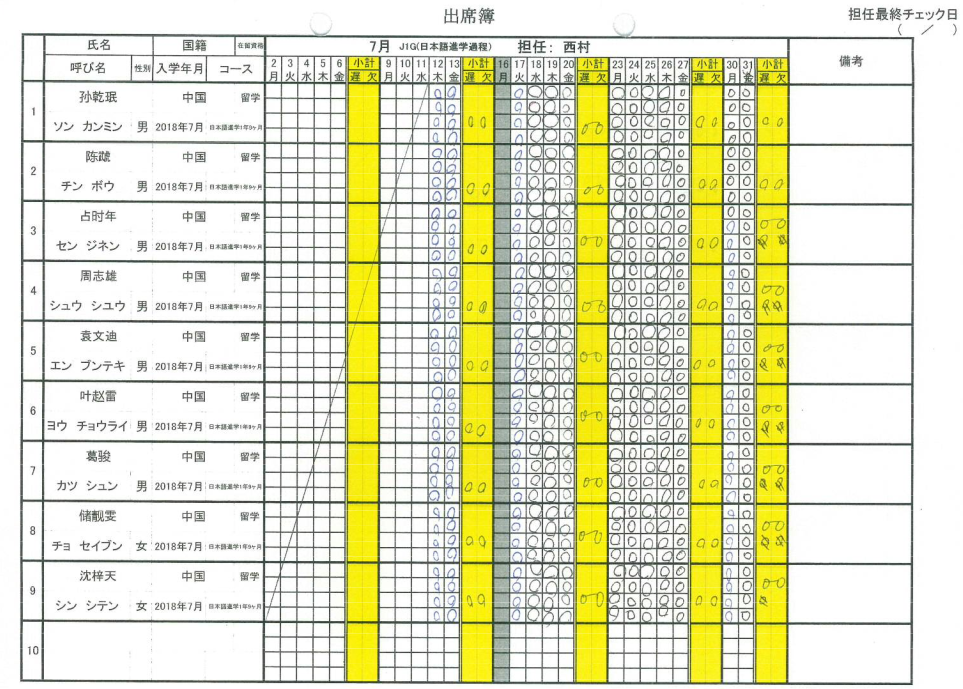o: (625, 278, 642, 295), (608, 308, 625, 325), (624, 503, 641, 520), (722, 503, 740, 519), (543, 173, 560, 189), (527, 218, 544, 234), (527, 263, 544, 279), (526, 518, 543, 534), (527, 548, 544, 564), (558, 563, 575, 579), (640, 383, 657, 399), (640, 412, 657, 428), (641, 443, 657, 460), (657, 443, 674, 459), (657, 504, 674, 520), (674, 533, 690, 550), (640, 594, 657, 610), (640, 608, 657, 624), (722, 488, 739, 504), (738, 203, 755, 219), (723, 129, 740, 145), (510, 84, 528, 99), (624, 234, 642, 249), (738, 474, 756, 489), (722, 175, 740, 190), (429, 83, 445, 99), (445, 203, 461, 219), (429, 218, 445, 234), (544, 83, 560, 99), (527, 323, 543, 339), (510, 338, 526, 354), (543, 353, 559, 369), (527, 383, 543, 399), (527, 413, 543, 429), (543, 413, 559, 429), (543, 443, 559, 459), (674, 174, 690, 190), (674, 204, 690, 220), (657, 233, 673, 249), (658, 264, 674, 280), (642, 278, 658, 294), (658, 278, 674, 294), (641, 292, 657, 308), (609, 339, 625, 355), (624, 339, 640, 355), (640, 488, 656, 504), (658, 549, 674, 565), (624, 607, 640, 623), (657, 608, 673, 624), (739, 413, 755, 429), (723, 293, 739, 309), (723, 234, 739, 250), (723, 203, 739, 219), (428, 263, 445, 278), (428, 443, 445, 458), (527, 84, 544, 99), (510, 99, 527, 114), (543, 144, 560, 159), (527, 204, 544, 219), (526, 234, 543, 249), (526, 473, 543, 488), (542, 474, 559, 489), (526, 488, 543, 503), (526, 503, 543, 518), (509, 533, 526, 548), (509, 548, 526, 563), (542, 548, 559, 563), (509, 563, 526, 578), (526, 563, 543, 578), (526, 578, 543, 593), (658, 100, 675, 115), (658, 145, 675, 160), (641, 159, 658, 174), (609, 174, 626, 189), (673, 189, 690, 204), (625, 204, 642, 219), (642, 203, 657, 220), (657, 204, 674, 219), (674, 278, 689, 295), (641, 324, 658, 339), (657, 324, 674, 339), (640, 339, 657, 354), (641, 354, 658, 369), (641, 369, 658, 384), (657, 399, 674, 414), (640, 399, 657, 414), (657, 429, 674, 444), (640, 504, 657, 519), (657, 534, 674, 549), (640, 548, 657, 563), (624, 594, 641, 609), (656, 593, 673, 608), (739, 459, 756, 474), (543, 159, 561, 173), (526, 189, 544, 203), (509, 384, 527, 398), (509, 429, 527, 443), (722, 115, 740, 129), (445, 83, 460, 99), (429, 99, 445, 114), (445, 99, 461, 114), (429, 114, 445, 129), (429, 159, 445, 174), (429, 203, 444, 219), (429, 248, 445, 263), (445, 337, 460, 353), (428, 457, 444, 472), (428, 487, 444, 502), (543, 100, 559, 115), (527, 129, 543, 144), (511, 144, 527, 159), (527, 158, 543, 173), (559, 188, 574, 204), (560, 204, 576, 219), (510, 218, 526, 233), (544, 219, 560, 234), (543, 234, 559, 249), (511, 264, 527, 279), (527, 279, 543, 294), (543, 294, 559, 309), (543, 309, 559, 324), (559, 324, 575, 339), (559, 338, 574, 354), (543, 384, 559, 399), (527, 399, 543, 414), (543, 399, 559, 414), (510, 414, 526, 429), (559, 413, 574, 429), (510, 443, 526, 458), (559, 443, 575, 458), (542, 459, 558, 474), (510, 473, 526, 488), (559, 473, 574, 489), (510, 488, 526, 503), (558, 503, 574, 518), (510, 518, 526, 533), (543, 519, 559, 534), (543, 563, 558, 579), (558, 578, 574, 593), (526, 607, 542, 622), (641, 84, 657, 99), (657, 84, 673, 99), (625, 115, 641, 130), (625, 145, 641, 160), (642, 144, 658, 159), (674, 143, 689, 159), (626, 174, 642, 189), (625, 189, 641, 204), (658, 189, 674, 204), (608, 219, 624, 234), (625, 219, 641, 234), (641, 219, 657, 234), (658, 219, 674, 234), (674, 219, 690, 234), (674, 234, 689, 250), (657, 249, 673, 264), (609, 264, 625, 279), (641, 263, 657, 278), (609, 278, 625, 293), (673, 309, 689, 324), (641, 308, 657, 323), (609, 324, 625, 339), (625, 324, 641, 339), (657, 339, 673, 354), (673, 339, 689, 354), (625, 369, 641, 384), (624, 383, 640, 398), (658, 412, 673, 428), (608, 444, 624, 459), (608, 473, 624, 488), (624, 474, 640, 489), (640, 474, 656, 489), (625, 488, 640, 504), (657, 488, 673, 503), (608, 504, 624, 519), (674, 503, 689, 519), (608, 535, 624, 550), (641, 534, 657, 549), (641, 565, 657, 580), (674, 563, 690, 578), (608, 579, 624, 594), (656, 579, 672, 594), (608, 594, 624, 609), (722, 593, 738, 608), (738, 579, 754, 594), (723, 564, 739, 579), (723, 519, 739, 534), (740, 503, 755, 519), (723, 444, 739, 459), (722, 413, 738, 428), (723, 399, 739, 414), (738, 398, 754, 413), (722, 369, 738, 384), (722, 353, 738, 368), (738, 354, 753, 370), (739, 323, 755, 338), (722, 264, 738, 279), (723, 189, 739, 204), (428, 338, 445, 352), (543, 189, 560, 203), (560, 218, 574, 235), (510, 369, 527, 383), (526, 429, 543, 443), (526, 534, 543, 548), (641, 130, 658, 144), (609, 145, 626, 159), (624, 249, 641, 263), (657, 474, 674, 488), (608, 489, 625, 503), (722, 534, 739, 548), (722, 459, 739, 473), (723, 145, 740, 159), (445, 159, 460, 174), (445, 173, 460, 188), (445, 219, 460, 234), (445, 293, 460, 308), (429, 323, 444, 338), (429, 383, 444, 398), (429, 518, 444, 533), (429, 533, 444, 548), (444, 563, 459, 578), (428, 593, 443, 608), (445, 592, 460, 607), (560, 144, 575, 159), (511, 174, 526, 189), (527, 174, 542, 189), (544, 203, 559, 218), (559, 248, 574, 263), (544, 264, 559, 279), (559, 264, 574, 279), (511, 307, 526, 322), (527, 354, 542, 369), (559, 384, 574, 399), (559, 399, 574, 414), (559, 429, 574, 444), (559, 488, 574, 503), (543, 503, 558, 518), (559, 518, 574, 533), (543, 533, 558, 548), (510, 593, 525, 608), (609, 84, 624, 99), (626, 85, 641, 100), (642, 234, 657, 249), (625, 263, 640, 278), (674, 264, 689, 279), (609, 293, 624, 308), (625, 293, 640, 308), (673, 294, 688, 309), (658, 310, 673, 325), (674, 324, 689, 339), (609, 354, 624, 369), (609, 384, 624, 399), (625, 399, 640, 414), (610, 399, 625, 414), (625, 444, 640, 459), (674, 443, 689, 458), (674, 488, 689, 503), (609, 520, 624, 535), (641, 518, 656, 533), (674, 550, 689, 565), (642, 580, 657, 595), (723, 579, 738, 594), (738, 564, 753, 579), (738, 549, 753, 564), (739, 444, 754, 459), (738, 428, 753, 443), (739, 339, 754, 354), (723, 324, 738, 339), (724, 309, 739, 324), (739, 294, 754, 309), (723, 279, 738, 294), (738, 264, 753, 279), (723, 218, 738, 233), (739, 145, 754, 160), (724, 85, 739, 100), (740, 85, 755, 100), (429, 144, 445, 158), (429, 174, 445, 188), (429, 189, 445, 203), (429, 234, 445, 248), (428, 353, 444, 367), (429, 502, 443, 518), (428, 548, 444, 562), (429, 563, 445, 577), (428, 608, 444, 622), (561, 84, 575, 100), (559, 100, 575, 114), (543, 114, 559, 128), (511, 129, 527, 143), (543, 129, 559, 143), (559, 129, 575, 143), (561, 158, 575, 174), (510, 189, 526, 203), (510, 204, 526, 218), (543, 249, 559, 263), (510, 280, 526, 294), (558, 279, 574, 293), (543, 324, 559, 338), (543, 339, 559, 353), (510, 354, 526, 368), (543, 369, 559, 383), (559, 369, 575, 383), (510, 399, 526, 413), (510, 459, 526, 473), (526, 459, 542, 473), (510, 503, 526, 517), (510, 578, 526, 592), (543, 579, 559, 593), (526, 593, 542, 607), (558, 594, 574, 608), (509, 608, 525, 622), (641, 100, 657, 114), (658, 115, 674, 129), (609, 129, 625, 143), (658, 129, 674, 143), (658, 159, 674, 173), (675, 159, 689, 175), (641, 174, 657, 188), (658, 175, 674, 189), (609, 189, 625, 203), (657, 295, 673, 309), (624, 355, 640, 369), (658, 369, 674, 383), (609, 369, 625, 383), (657, 385, 673, 399), (626, 413, 640, 429), (641, 429, 657, 443), (625, 429, 641, 443), (609, 429, 625, 443), (625, 520, 641, 534), (625, 534, 641, 548), (625, 565, 641, 579), (657, 565, 673, 579), (624, 579, 640, 593), (673, 595, 689, 609), (608, 609, 624, 623), (739, 489, 755, 503), (722, 474, 738, 488), (722, 428, 738, 442), (739, 174, 755, 188), (722, 160, 738, 174), (741, 129, 755, 145), (428, 368, 445, 381), (656, 460, 673, 473), (607, 460, 624, 473), (722, 385, 739, 398), (724, 100, 741, 113), (446, 113, 460, 128), (429, 129, 444, 143), (445, 129, 460, 143), (429, 279, 444, 293), (429, 308, 444, 322), (445, 353, 460, 367), (445, 368, 460, 382), (444, 383, 459, 397), (429, 398, 444, 412), (429, 428, 444, 442), (445, 427, 459, 442), (445, 443, 459, 458), (429, 473, 444, 487), (445, 519, 460, 533), (445, 548, 460, 562), (429, 578, 444, 592), (445, 577, 459, 592), (445, 608, 460, 622), (528, 99, 542, 114), (528, 114, 542, 129), (560, 114, 574, 129), (528, 144, 543, 158), (511, 159, 526, 173), (511, 234, 526, 248), (559, 234, 574, 248), (511, 249, 526, 263), (543, 279, 558, 293), (511, 294, 526, 308), (559, 308, 574, 322), (511, 323, 525, 338), (527, 339, 542, 353), (527, 444, 542, 458), (559, 459, 574, 473), (544, 489, 559, 503), (559, 534, 574, 548), (559, 548, 573, 563), (543, 593, 557, 608), (674, 85, 689, 99), (609, 100, 624, 114), (626, 100, 641, 114), (674, 99, 688, 114), (609, 115, 624, 129), (642, 115, 657, 129), (626, 129, 641, 143), (674, 129, 689, 143), (626, 160, 641, 174), (642, 189, 657, 203), (610, 234, 624, 249), (625, 309, 640, 323), (658, 355, 673, 369), (674, 368, 688, 383), (675, 398, 689, 413), (609, 415, 624, 429), (674, 414, 688, 429), (673, 459, 688, 473), (674, 474, 688, 489), (624, 549, 639, 563), (674, 578, 688, 593), (738, 593, 753, 607), (739, 533, 754, 547), (724, 338, 738, 353), (739, 280, 754, 294), (723, 249, 738, 263), (739, 250, 754, 264), (739, 235, 754, 249), (740, 219, 754, 234), (741, 115, 755, 130), (739, 99, 754, 113), (444, 488, 460, 501), (527, 249, 543, 262), (527, 295, 543, 308), (526, 309, 542, 322), (527, 369, 543, 382), (543, 429, 559, 442), (609, 160, 625, 173), (609, 205, 625, 218), (658, 520, 674, 533), (608, 565, 624, 578), (722, 609, 738, 622), (738, 385, 754, 398), (446, 234, 460, 248), (446, 248, 460, 262), (446, 263, 460, 277), (445, 308, 459, 322), (445, 459, 459, 473), (445, 473, 459, 487), (559, 294, 573, 308), (560, 355, 574, 369), (543, 609, 557, 623), (559, 609, 573, 623), (675, 115, 689, 129), (610, 249, 624, 263), (642, 249, 656, 263), (674, 250, 688, 264), (674, 430, 688, 444), (642, 460, 656, 474), (675, 519, 689, 533), (673, 609, 687, 623), (739, 609, 753, 623), (740, 519, 754, 533), (739, 370, 753, 384), (740, 160, 754, 174), (429, 294, 444, 307), (445, 398, 458, 413), (511, 115, 526, 128), (561, 174, 574, 189), (673, 355, 688, 368), (673, 385, 688, 398), (625, 460, 640, 473), (723, 549, 738, 562), (739, 309, 754, 322), (738, 190, 753, 203), (608, 550, 624, 562), (447, 145, 460, 159), (446, 189, 460, 202), (446, 278, 459, 292), (446, 324, 459, 338), (429, 414, 443, 427), (446, 413, 459, 427), (445, 503, 458, 517), (445, 534, 459, 547)
